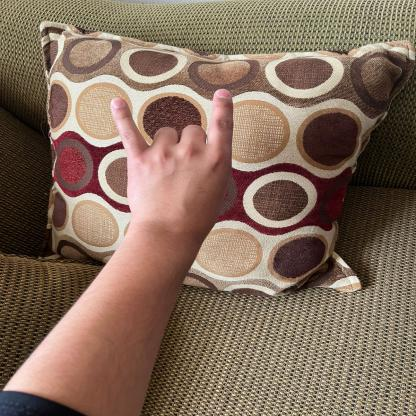U: (105, 85, 248, 241)
